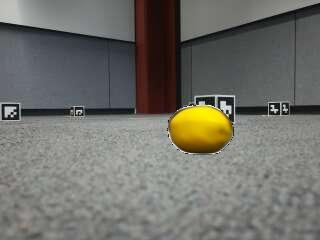lemon: (170, 106, 232, 154)
